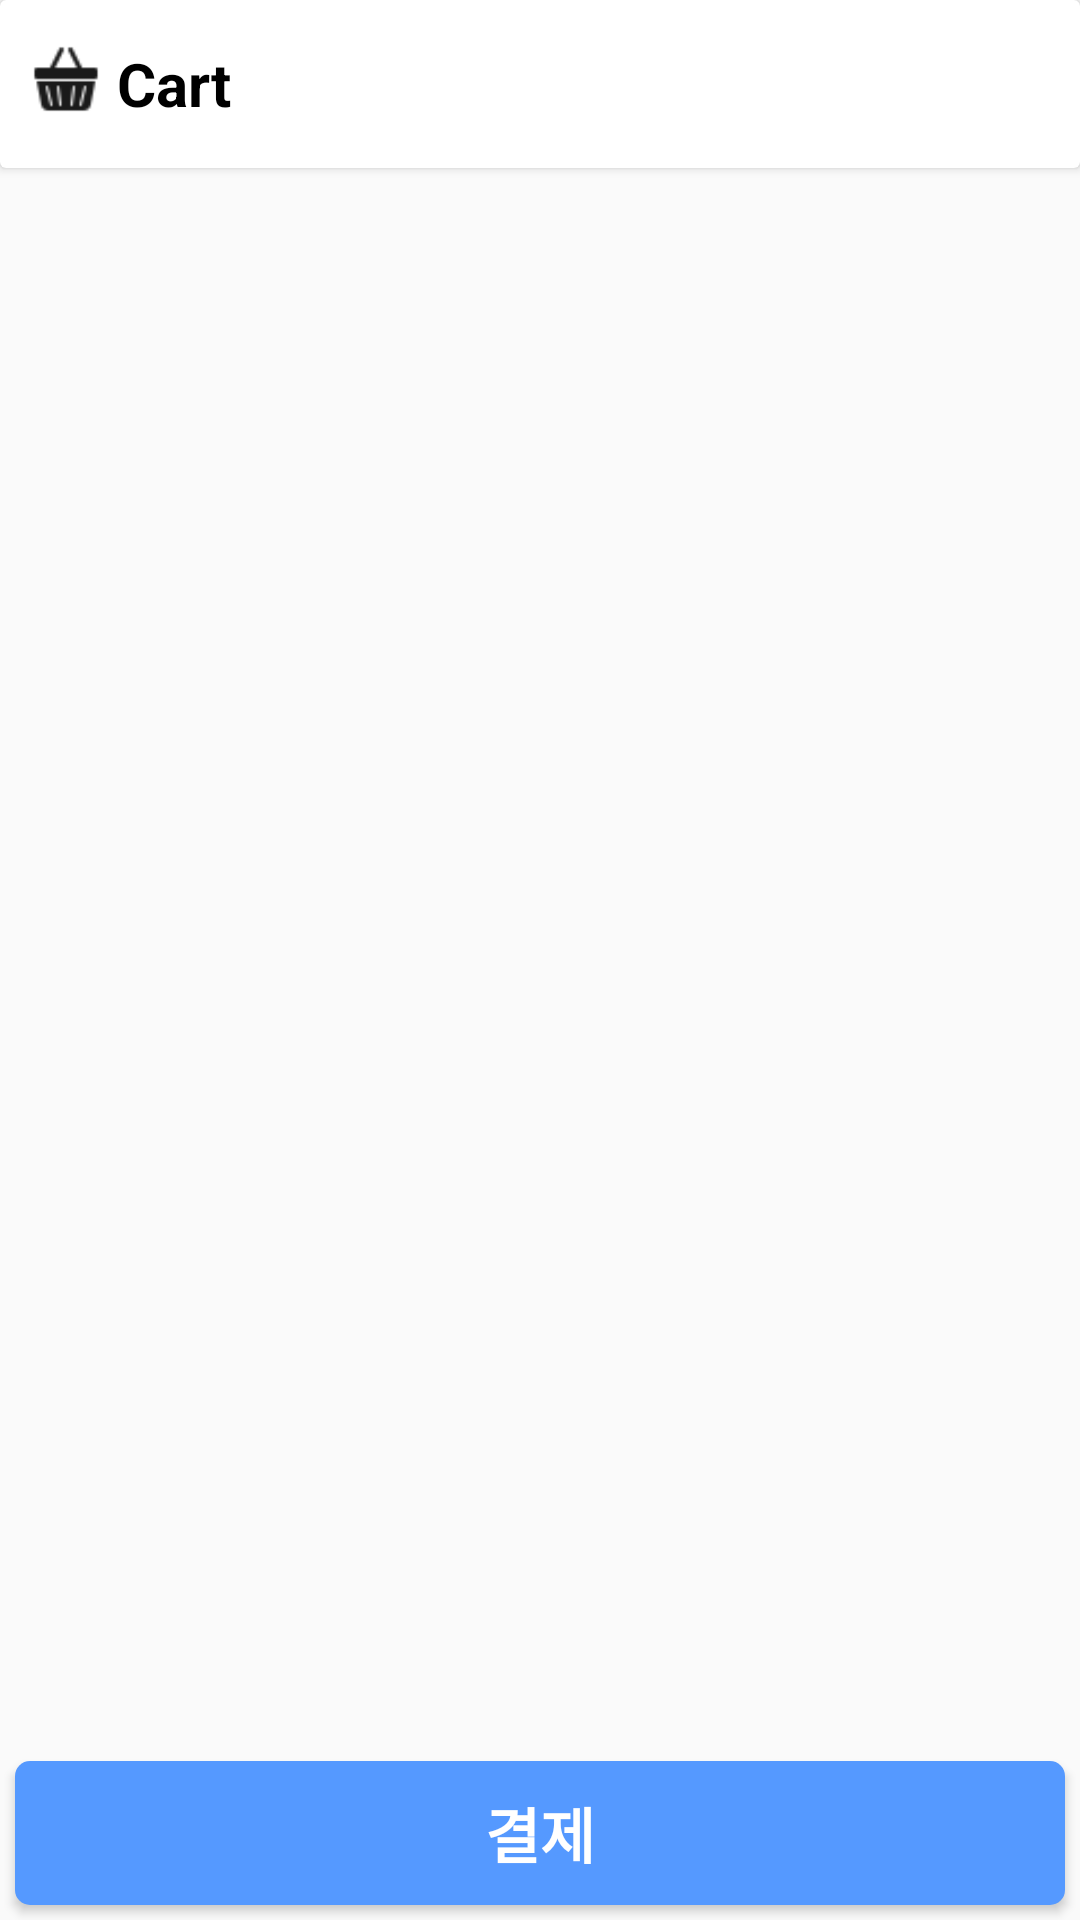

Named icons in this screenshot (1080px×1920px) and their centers, (x=x, y=y):
basket: (x=66, y=79)
